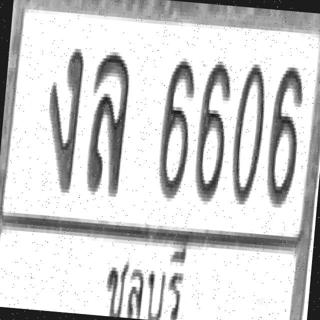A07: (41, 41, 85, 191)
A36: (84, 46, 132, 194)
N00: (228, 58, 268, 204)
N06: (156, 53, 197, 199), (264, 62, 305, 205), (192, 54, 232, 200)
P13: (98, 238, 188, 320)
